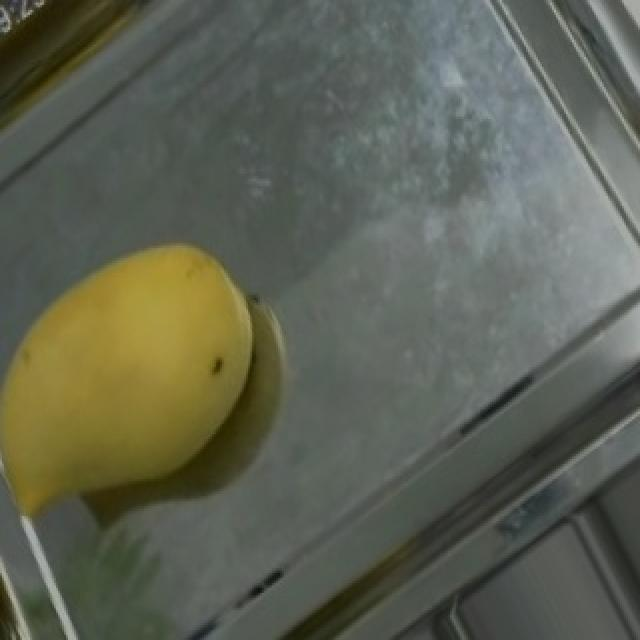fruit: (18, 184, 338, 543)
